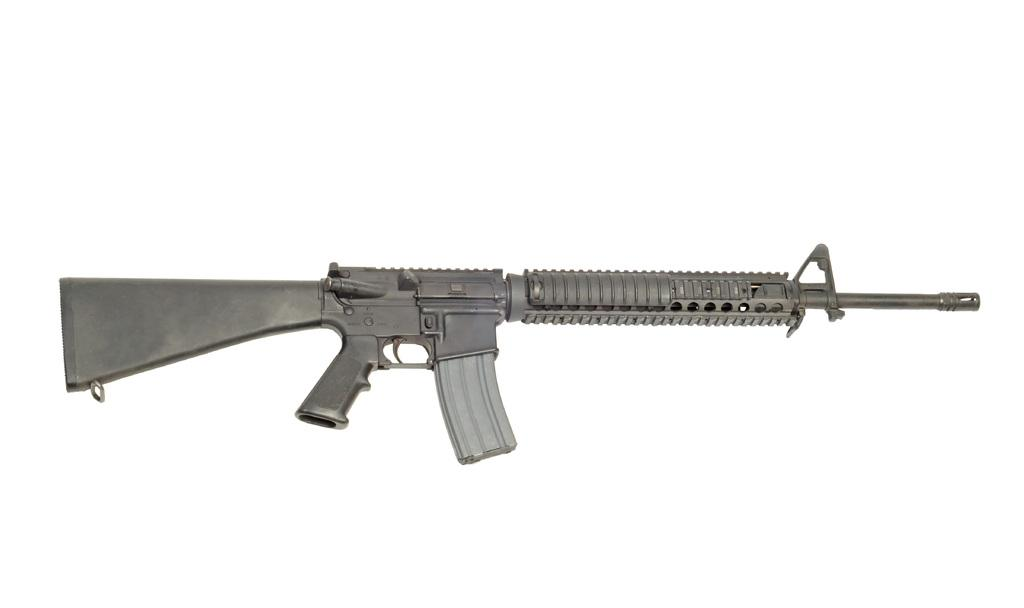Rifle: (63, 247, 979, 465)
